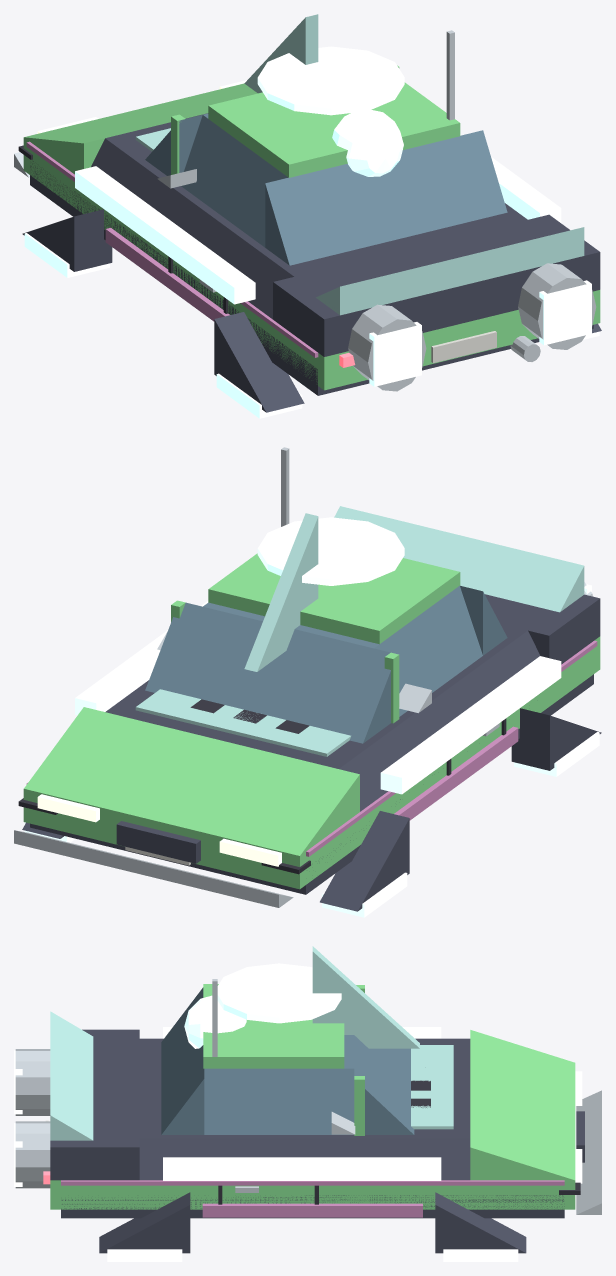
Rendered from quantum_quasar.glb.
The picture shows the model from 3 angles, top to bottom: view 1: azimuth 30°, elevation 25°; view 2: azimuth 150°, elevation 25°; view 3: azimuth 270°, elevation 25°; orthographic projection. The views are drawn at different scales.
Visible parts, largest first — view 1: RearWindow.200, Tail.100, Roof.300, Body.300, HaloRing.011, Ducktail.070, ShoulderL.097, CabinSideL.097, FloatFin-1.042, Nose.097, BodyUpper.097, HoverPodWheel_RL.042 (+17 smaller); view 2: Nose.097, Windshield.200, Body.300, Roof.300, Ducktail.070, ShoulderL.097, HaloRing.011, FloatFin-1.042, CabinSideL.097, HoverPodWheel_FL.042, BridgeFin.012, Hood.296 (+18 smaller); view 3: Nose.097, Body.300, CabinSideR.097, Tail.100, ShoulderR.097, FloatFin1.042, Roof.300, BodyUpper.097, HaloRing.011, Ducktail.070, RearWindow.200, Windshield.200 (+17 smaller).
Boxes of the visible parts, <box> form: RearWindow.200: <box>265,130,507,265</box>; Tail.100: <box>273,214,600,356</box>; Roof.300: <box>208,82,460,177</box>; Body.300: <box>23,137,600,390</box>; HaloRing.011: <box>257,46,404,115</box>; Ducktail.070: <box>316,227,584,315</box>; ShoulderL.097: <box>91,138,293,319</box>; CabinSideL.097: <box>181,115,287,247</box>; FloatFin-1.042: <box>75,166,255,304</box>; Nose.097: <box>24,83,257,174</box>; BodyUpper.097: <box>105,113,527,276</box>; HoverPodWheel_RL.042: <box>214,312,304,412</box>; Nose.097: <box>24,707,359,855</box>; Windshield.200: <box>145,602,390,743</box>; Body.300: <box>23,636,600,889</box>; Roof.300: <box>208,553,460,644</box>; Ducktail.070: <box>334,506,584,612</box>; ShoulderL.097: <box>339,631,540,811</box>; HaloRing.011: <box>257,517,404,585</box>; FloatFin-1.042: <box>380,656,561,794</box>; CabinSideL.097: <box>374,585,482,716</box>; HoverPodWheel_FL.042: <box>320,811,409,911</box>; BridgeFin.012: <box>244,513,318,671</box>; Hood.296: <box>135,689,350,756</box>; Nose.097: <box>470,1030,575,1180</box>; Body.300: <box>50,1180,575,1209</box>; CabinSideR.097: <box>204,1068,354,1134</box>; Tail.100: <box>50,1029,139,1180</box>; ShoulderR.097: <box>139,1138,470,1180</box>; FloatFin1.042: <box>163,1157,441,1180</box>; Roof.300: <box>203,984,344,1068</box>; BodyUpper.097: <box>139,1038,470,1138</box>; HaloRing.011: <box>217,963,341,1023</box>; Ducktail.070: <box>50,1011,93,1140</box>; RearWindow.200: <box>161,987,204,1134</box>; Windshield.200: <box>354,1035,414,1134</box>.
Bounding box in the file's own units: 3.2 × 2.52 × 5.49.
